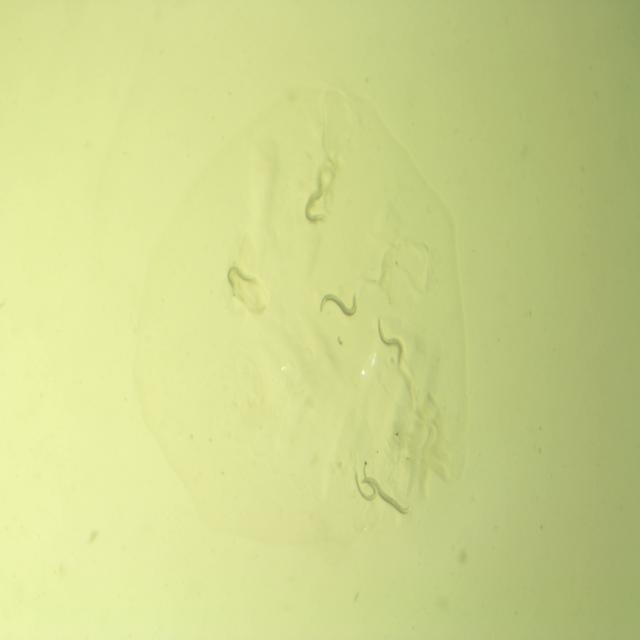worm: (359, 476, 414, 522), (372, 314, 408, 370), (315, 280, 361, 322), (221, 260, 263, 300), (302, 177, 331, 230), (349, 460, 380, 504)
